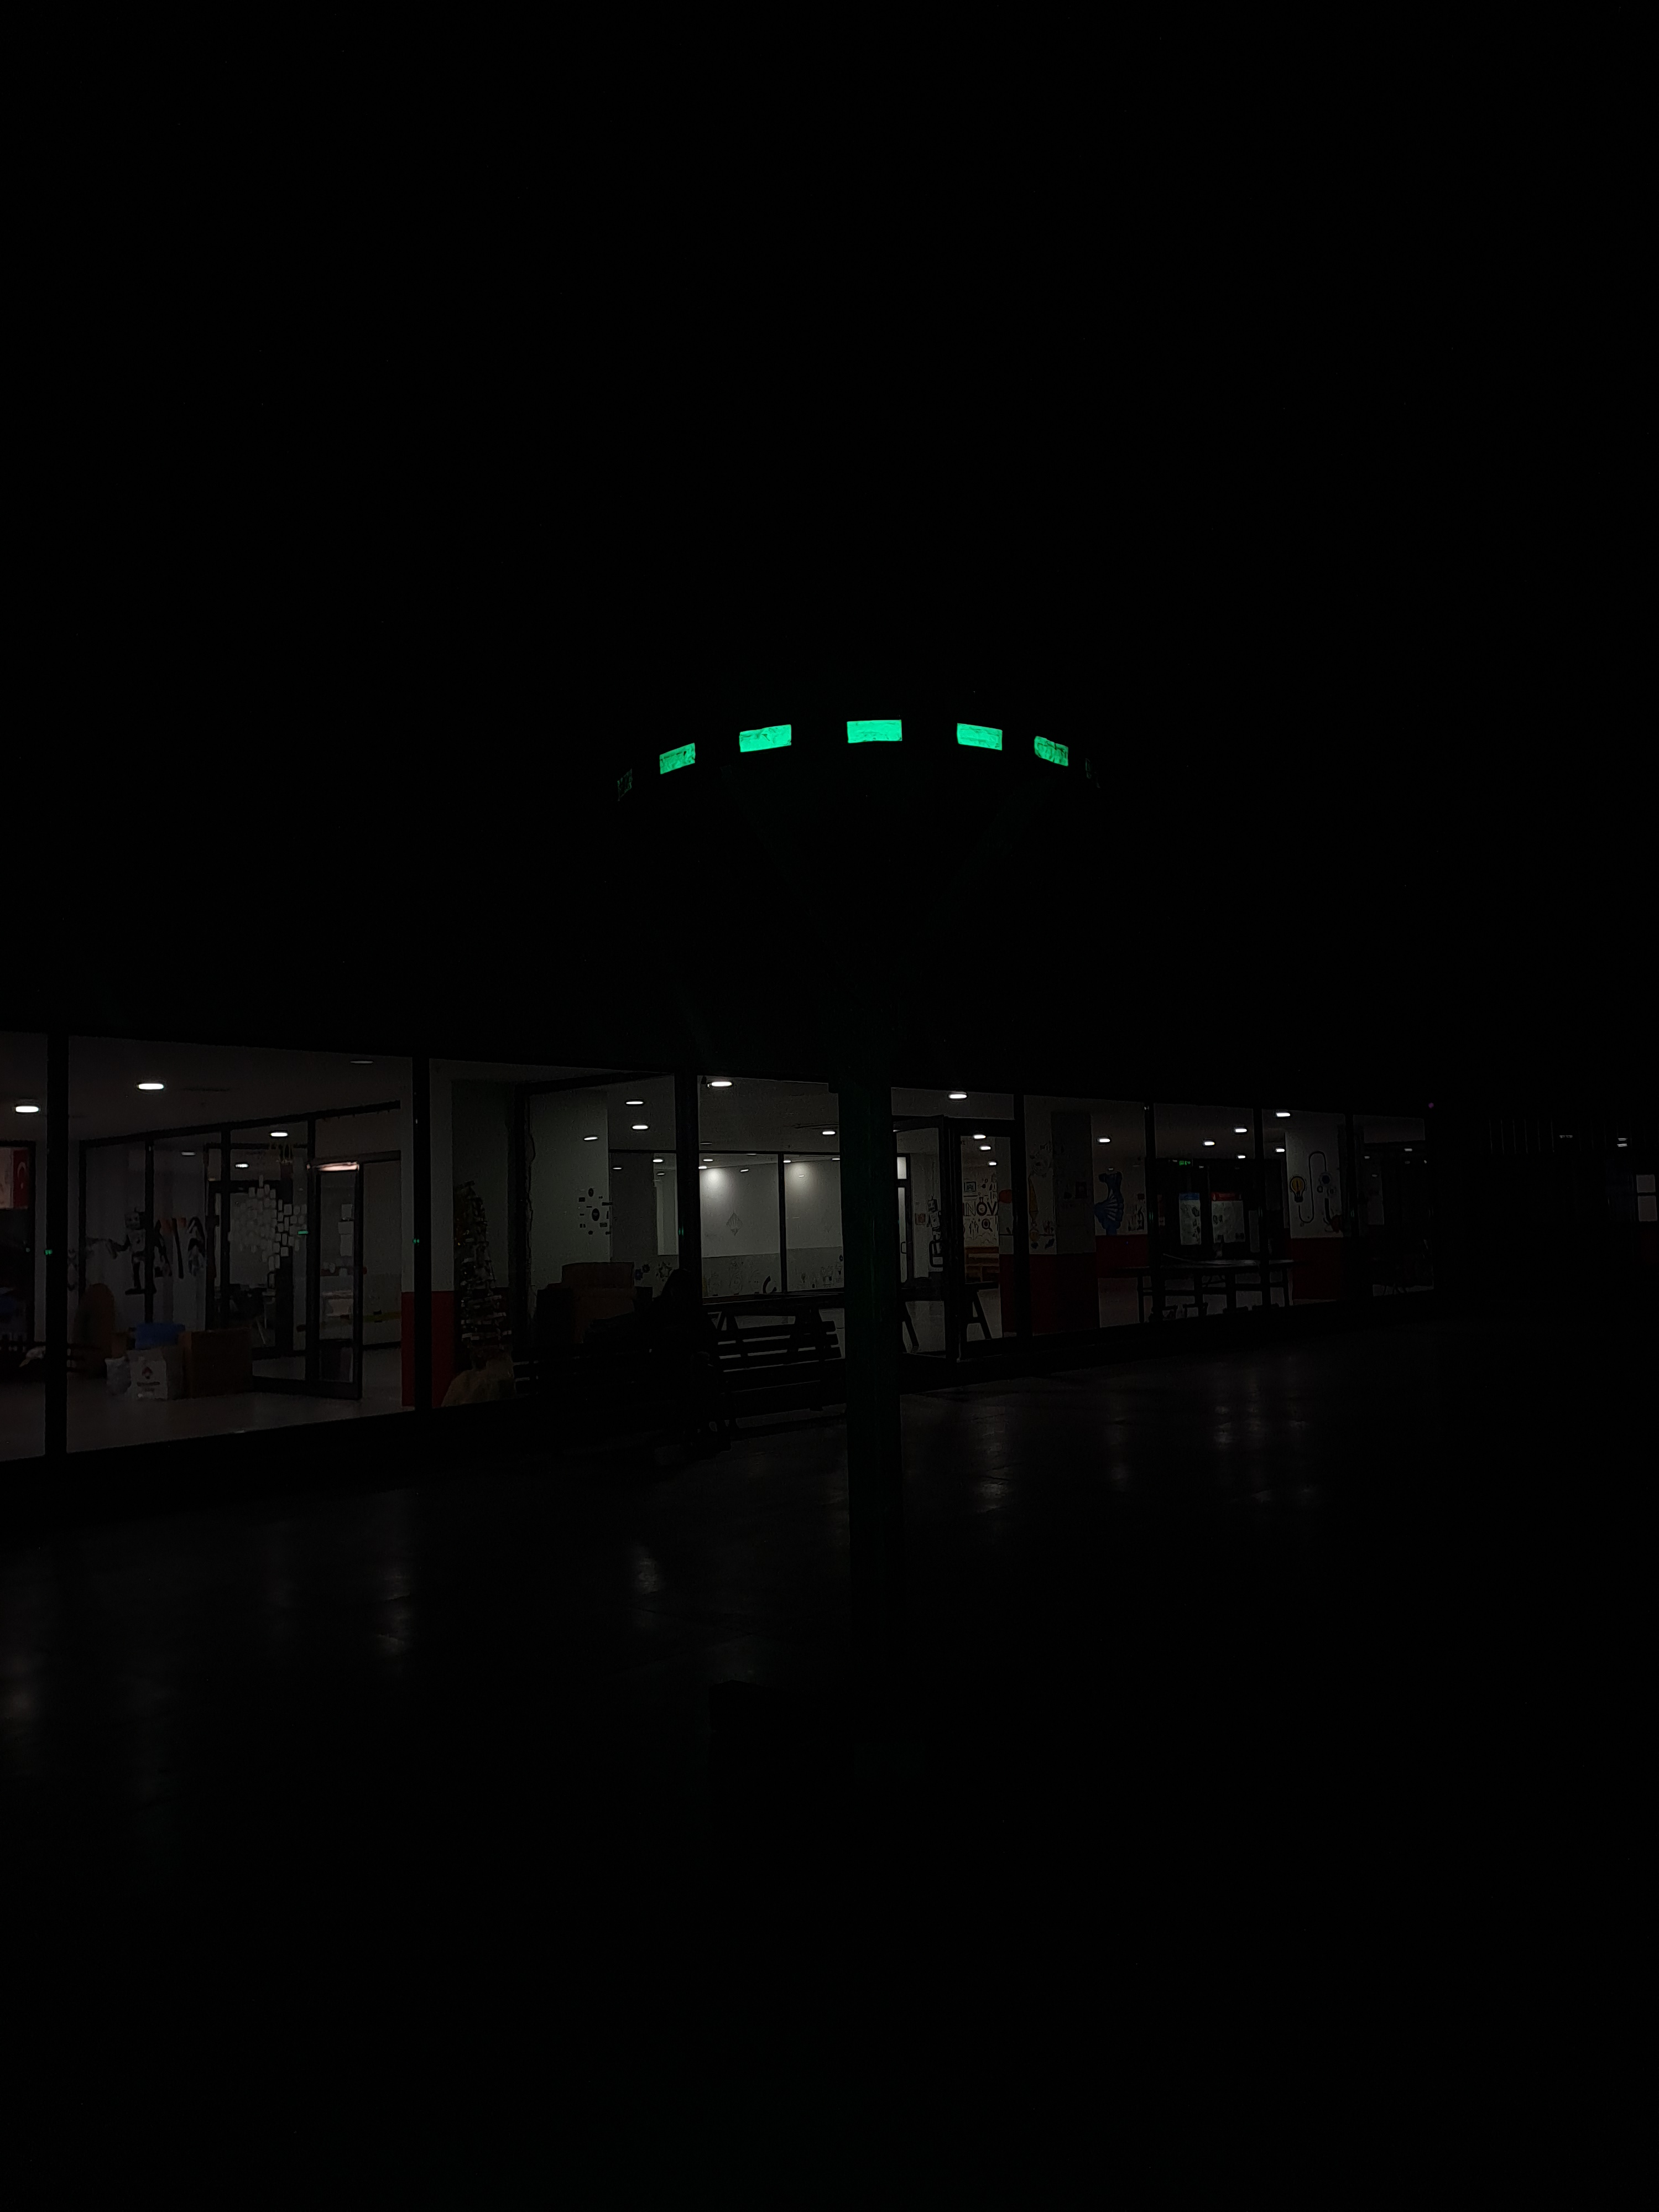hoop: (655, 723, 1077, 779)
